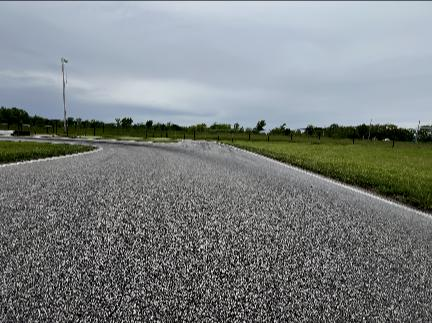Grass: (225, 142, 431, 210), (0, 141, 95, 163), (61, 136, 180, 143)
Lane: (0, 137, 431, 322)
